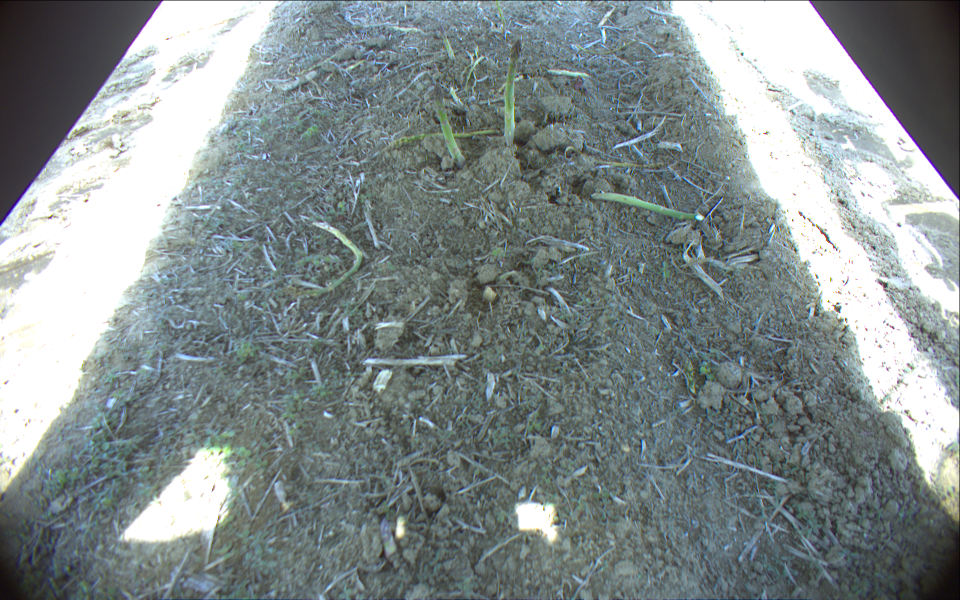aspa: (291, 221, 362, 303), (590, 191, 704, 220), (384, 129, 500, 151), (434, 84, 463, 161), (503, 40, 521, 145), (576, 42, 660, 58), (436, 21, 454, 61), (496, 1, 508, 37), (546, 67, 589, 77)
